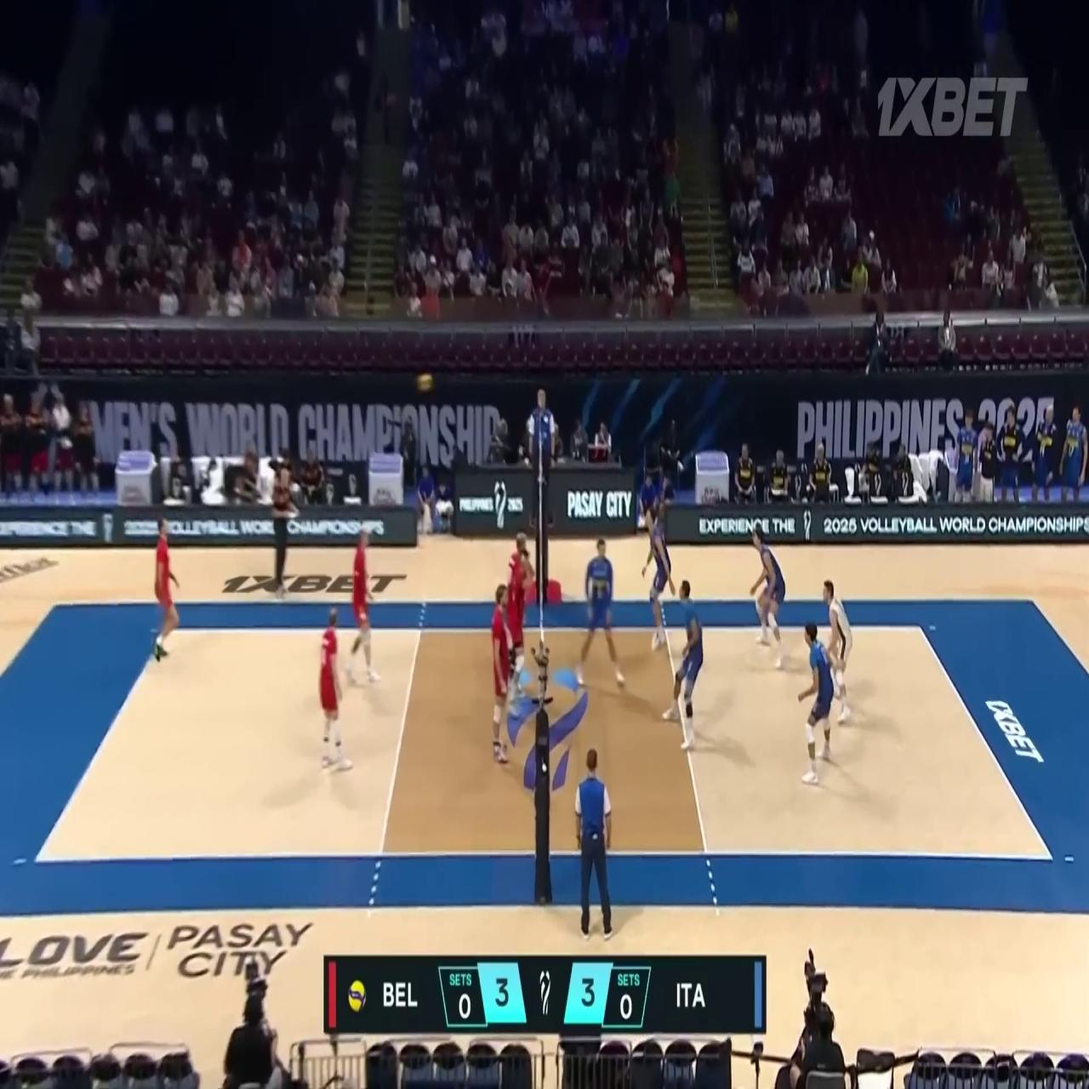ball: (418, 372, 433, 390)
